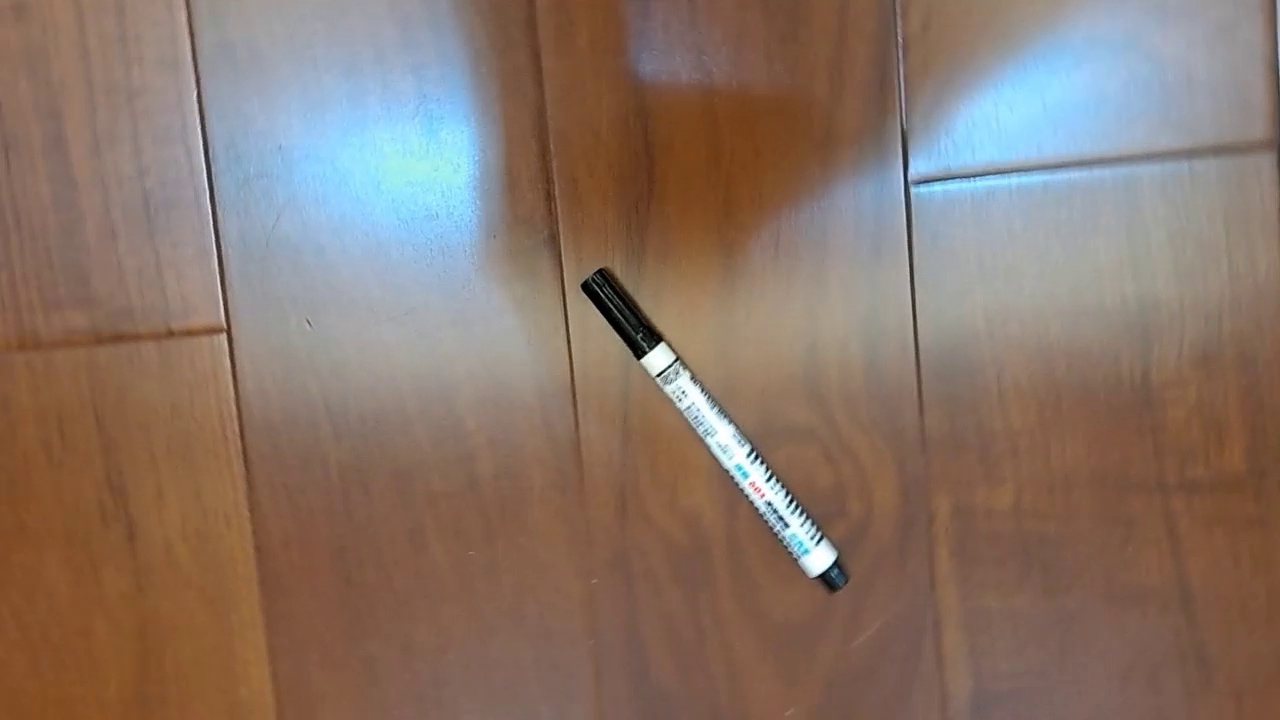pen: (578, 265, 851, 596)
